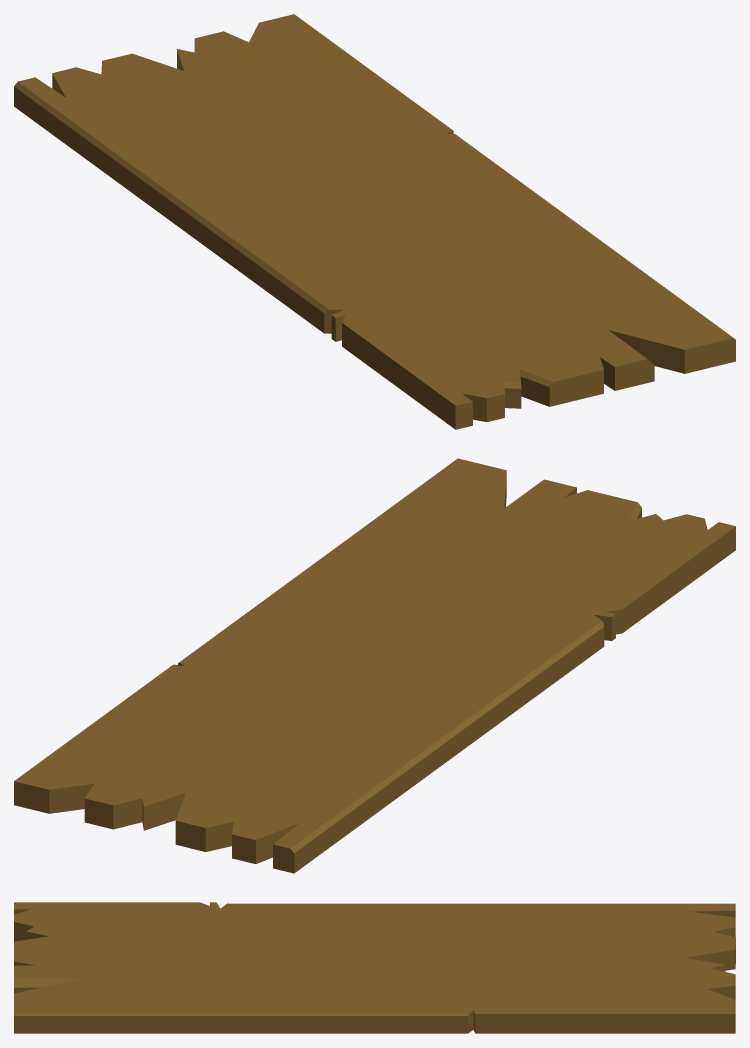
The model's file is Plank.fbx.
3 views of the same model, one above another, from view 1: azimuth 30°, elevation 25°; view 2: azimuth 150°, elevation 25°; view 3: azimuth 270°, elevation 25° (orthographic). The views are drawn at different scales.
Parts seen in each view (by area): view 1: Plank; view 2: Plank; view 3: Plank.
Boxes of the visible parts, x1=… form: Plank: x1=14, y1=14, x2=735, y2=429; Plank: x1=14, y1=458, x2=735, y2=873; Plank: x1=14, y1=902, x2=735, y2=1033.
Bounding box in the file's own units: 6.2 × 0.5083 × 16.94.
